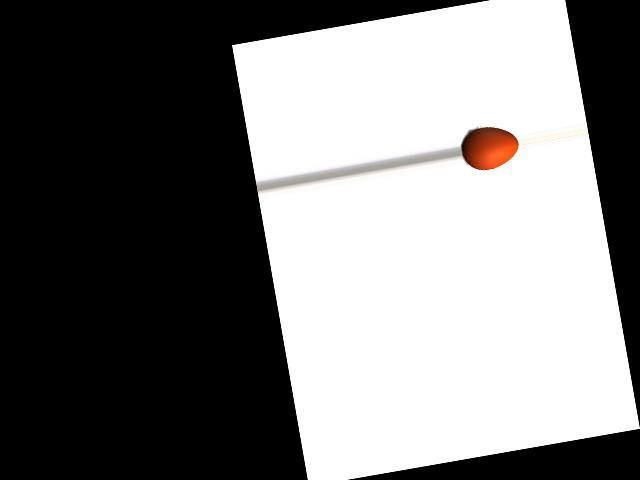egg: (458, 122, 521, 173)
